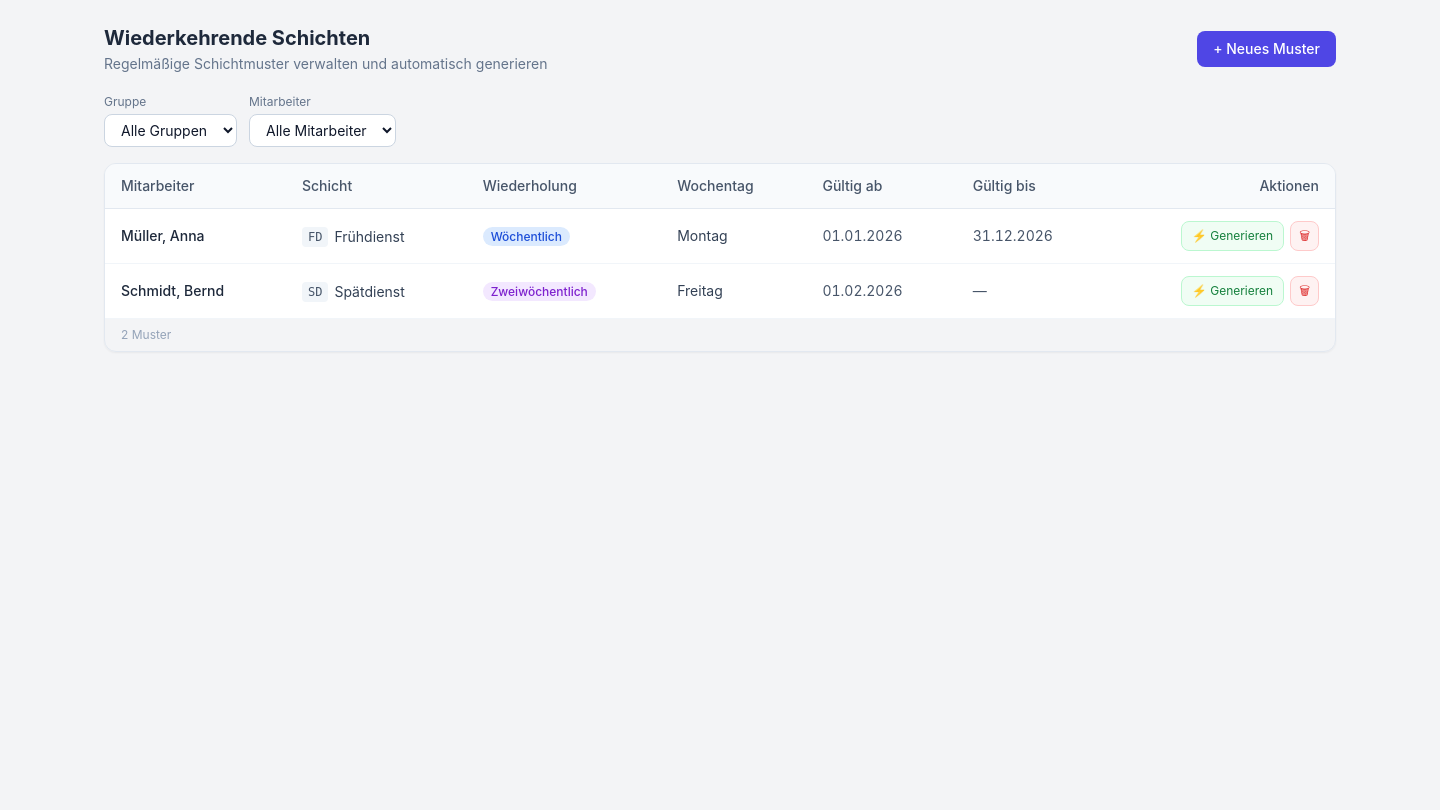
Test: RecurringShifts › opens generate modal when Generieren button clicked
Expected: the text "Müller, Anna" is shown, 105,208 -> 286,264
Click the button "⚡ Generieren" in the row of "Müller, Anna".
click(1233, 236)  # box 1181,221 -> 1284,251
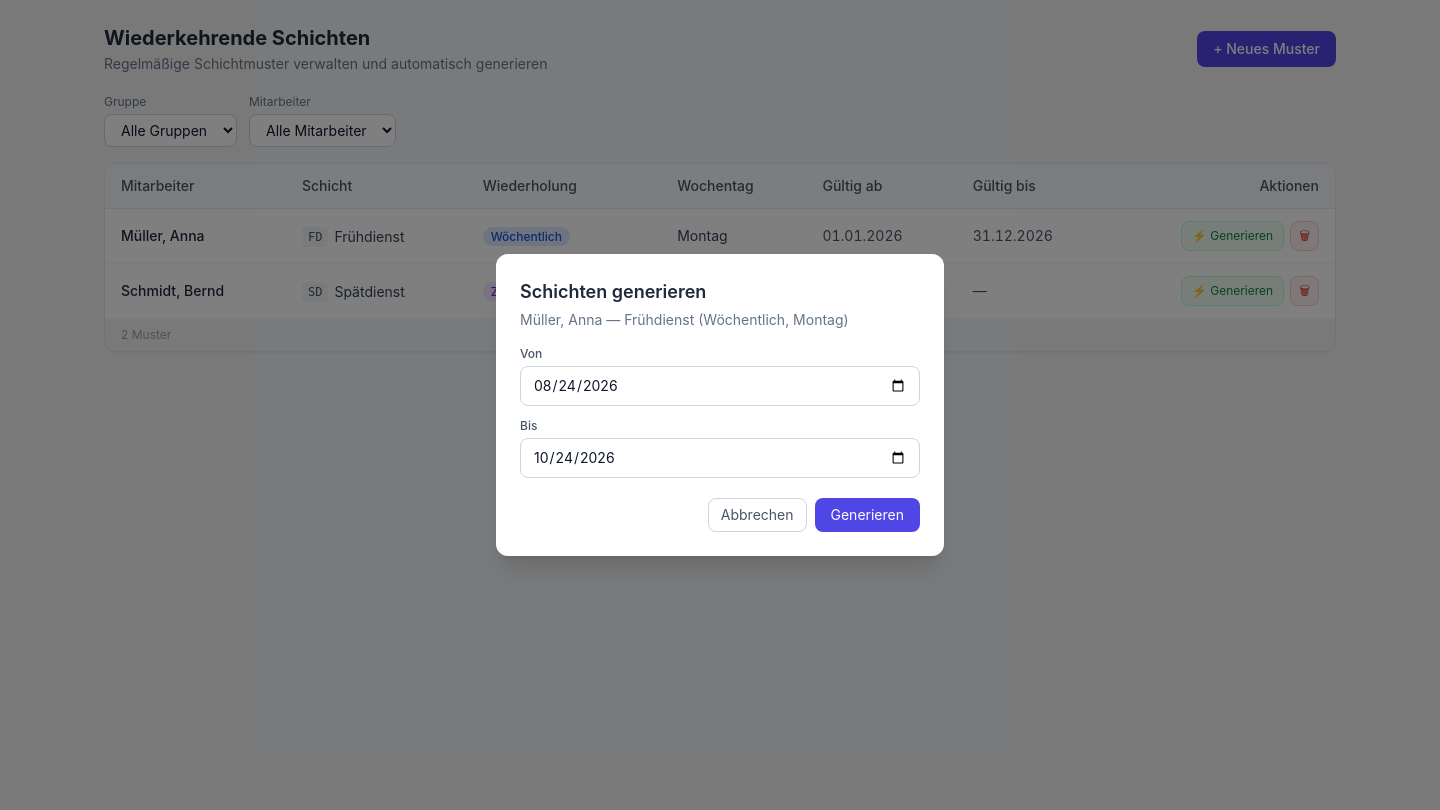
Result: the dialog labelled "Schichten generieren" is shown
